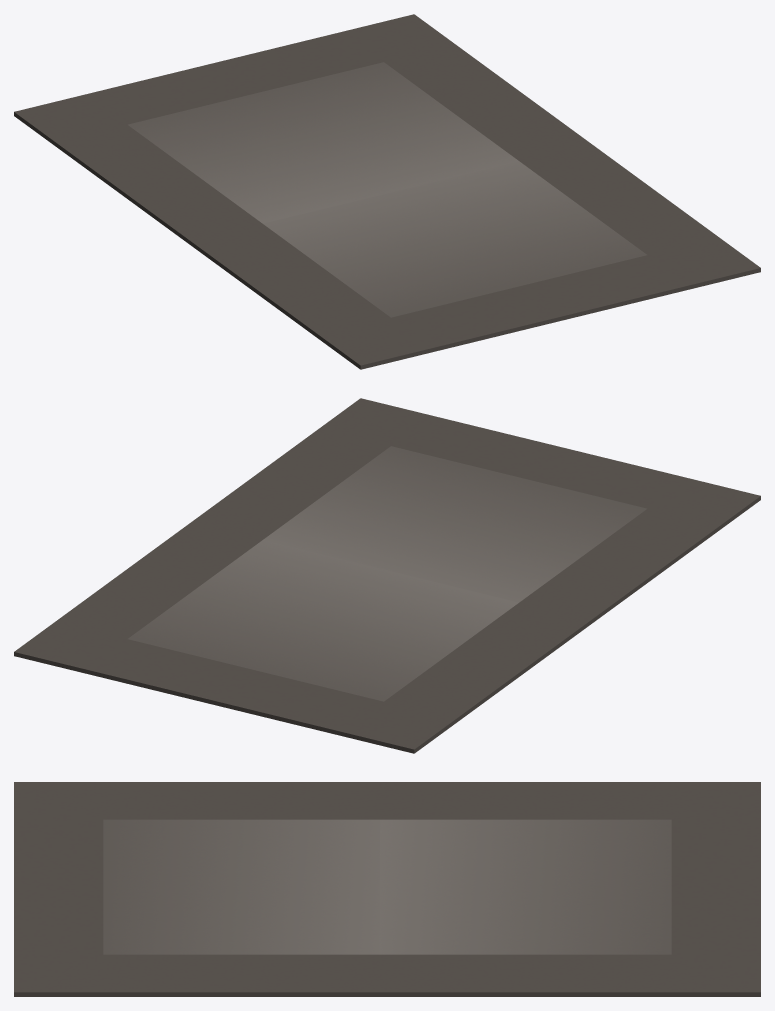
The model's file is L1_Rug.fbx.
The picture shows the model from 3 angles, top to bottom: view 1: azimuth 30°, elevation 25°; view 2: azimuth 150°, elevation 25°; view 3: azimuth 270°, elevation 25°; orthographic projection. The views are drawn at different scales.
Visible parts, largest first — view 1: Box004; view 2: Box004; view 3: Box004.
Boxes of the visible parts, x1,y1,x2,y2 form: Box004: (14, 14, 760, 369); Box004: (14, 398, 760, 753); Box004: (14, 782, 760, 996).
Bounding box in the file's own units: 100 × 1 × 150.
1 material, 1 textured.
